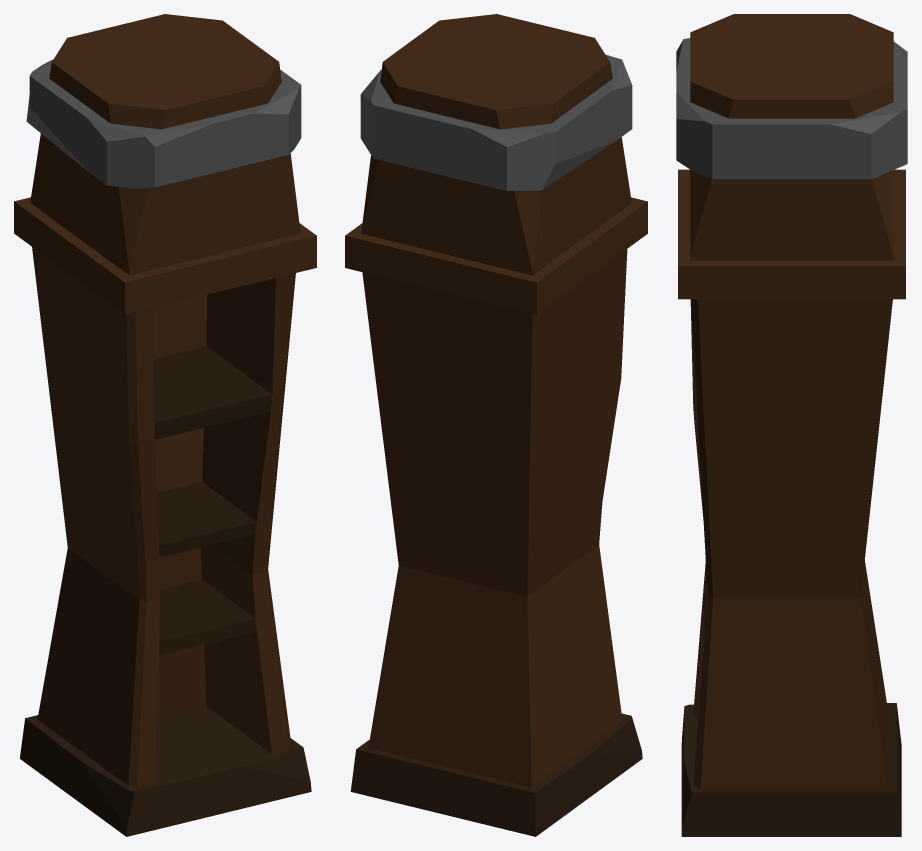
File: Schrank02.fbx
3 renders of one model, left to right at view 1: azimuth 30°, elevation 25°; view 2: azimuth 150°, elevation 25°; view 3: azimuth 270°, elevation 25°, orthographic. The views are drawn at different scales.
Parts seen in each view (by area): view 1: Cube.009; view 2: Cube.009; view 3: Cube.009.
Part boxes in pixels (x1,y1,x2,y2): Cube.009: [14, 14, 316, 836]; Cube.009: [345, 14, 647, 836]; Cube.009: [676, 14, 907, 836].
Bounding box in the file's own units: 96.73 × 339 × 96.86.
